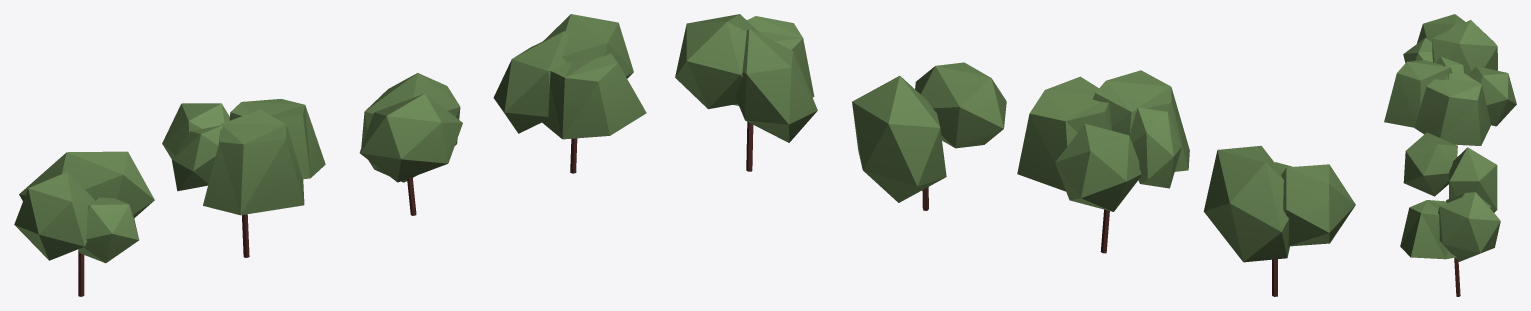
File: trees.glb
3 renders of one model, left to right at view 1: azimuth 30°, elevation 25°; view 2: azimuth 150°, elevation 25°; view 3: azimuth 270°, elevation 25°, orthographic. The views are drawn at different scales.
Parts seen in each view (by area): view 1: tree_1, tree_3, tree_0, tree_2; view 2: tree_1, tree_2, tree_3, tree_0; view 3: tree_1, tree_3, tree_2, tree_0.
Boxes of the visible parts, x1,y1,x2,y2 form: tree_1: (162,99,325,257); tree_3: (493,14,646,173); tree_0: (14,151,154,296); tree_2: (359,73,462,215); tree_1: (1017,70,1189,253); tree_2: (852,62,1006,210); tree_3: (675,14,817,171); tree_0: (1203,145,1355,296); tree_1: (1384,56,1516,145); tree_3: (1400,192,1500,296); tree_2: (1403,132,1497,212); tree_0: (1403,14,1497,75).
Bounding box in the file's own units: 22.48 × 5.19 × 5.81.
